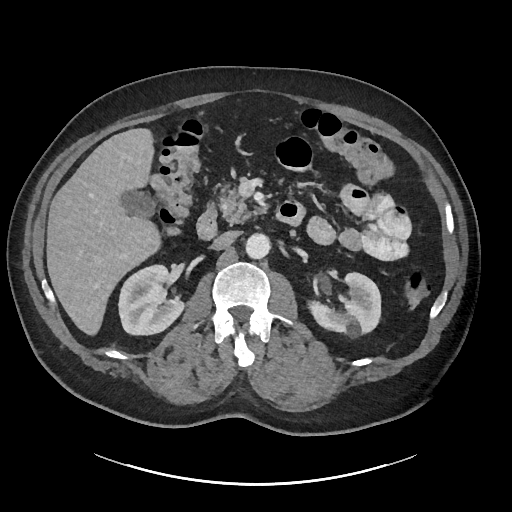Lesion: (345, 318, 362, 339)
